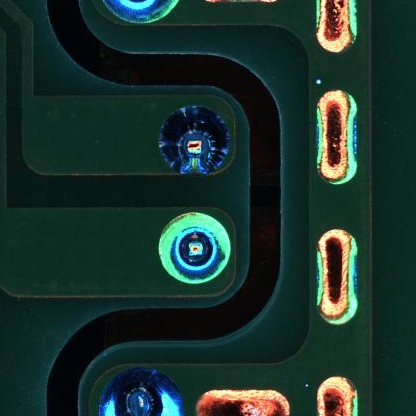spot: (156, 210, 234, 288), (157, 102, 230, 181), (98, 367, 185, 416), (101, 1, 183, 27)
